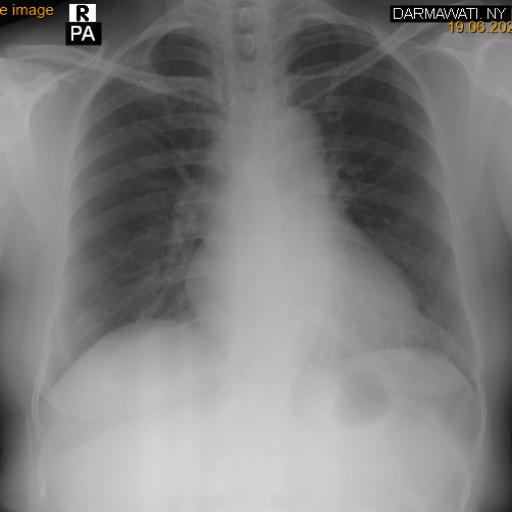kardiomegali: (44, 4, 486, 416)
